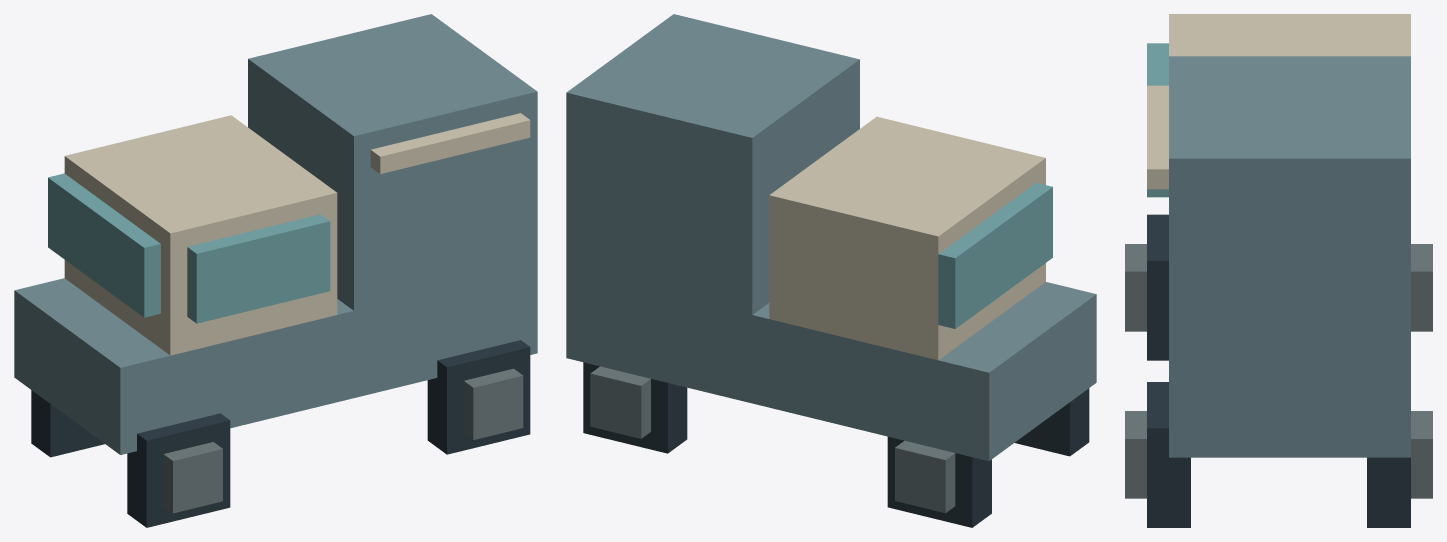
The model's file is telecom-19.glb.
3 views of the same model, side by side, from view 1: azimuth 30°, elevation 25°; view 2: azimuth 150°, elevation 25°; view 3: azimuth 270°, elevation 25° (orthographic). The views are drawn at different scales.
Parts seen in each view (by area): view 1: Service van; view 2: Service van; view 3: Service van.
Part boxes in pixels (x1,y1,x2,y2): Service van: (14, 14, 537, 527); Service van: (566, 14, 1096, 527); Service van: (1125, 14, 1432, 527).
Bounding box in the file's own units: 2 × 1.52 × 1.12.
